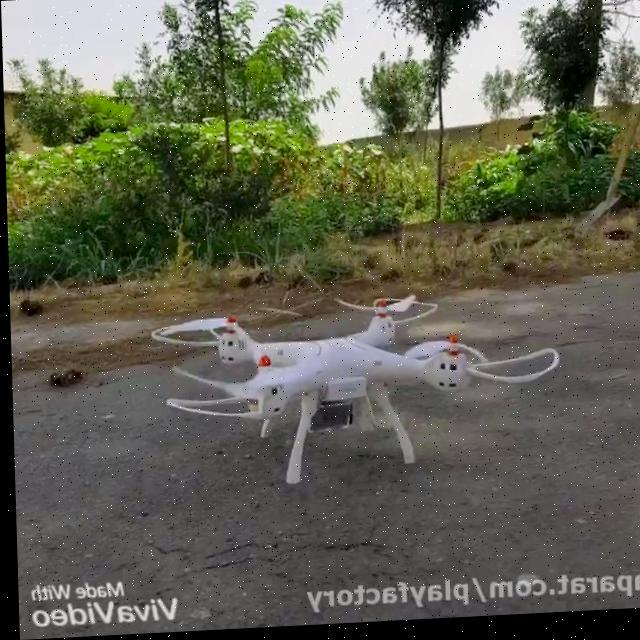drone: (146, 291, 561, 489)
